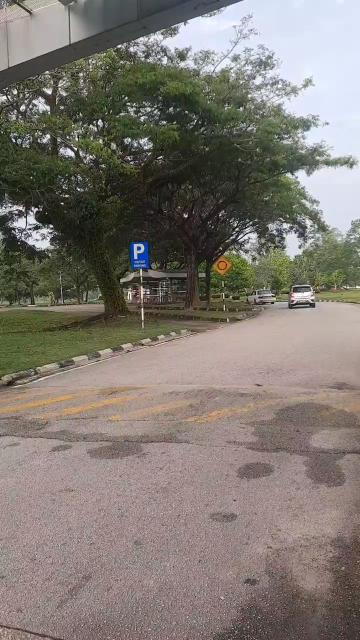car: (290, 284, 316, 312)
